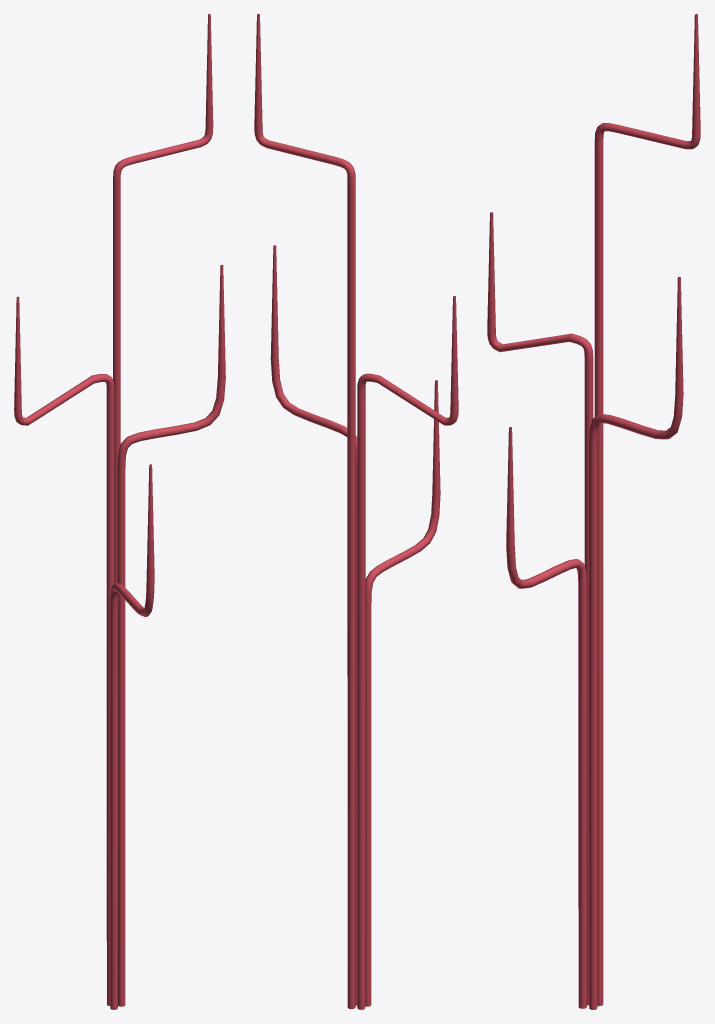
The model's file is wattle3.fbx.
The picture shows the model from 3 angles, left to right: view 1: azimuth 30°, elevation 25°; view 2: azimuth 150°, elevation 25°; view 3: azimuth 330°, elevation 25°; orthographic projection. The views are drawn at different scales.
Visible parts, largest first — view 1: wattle3_LOD0; view 2: wattle3_LOD0; view 3: wattle3_LOD0.
Boxes of the visible parts, x1,y1,x2,y2 form: wattle3_LOD0: (14, 14, 225, 1009); wattle3_LOD0: (254, 14, 458, 1009); wattle3_LOD0: (487, 14, 700, 1009).
Size of what is drawn, in the model's own units: 566 by 2608 by 308.
